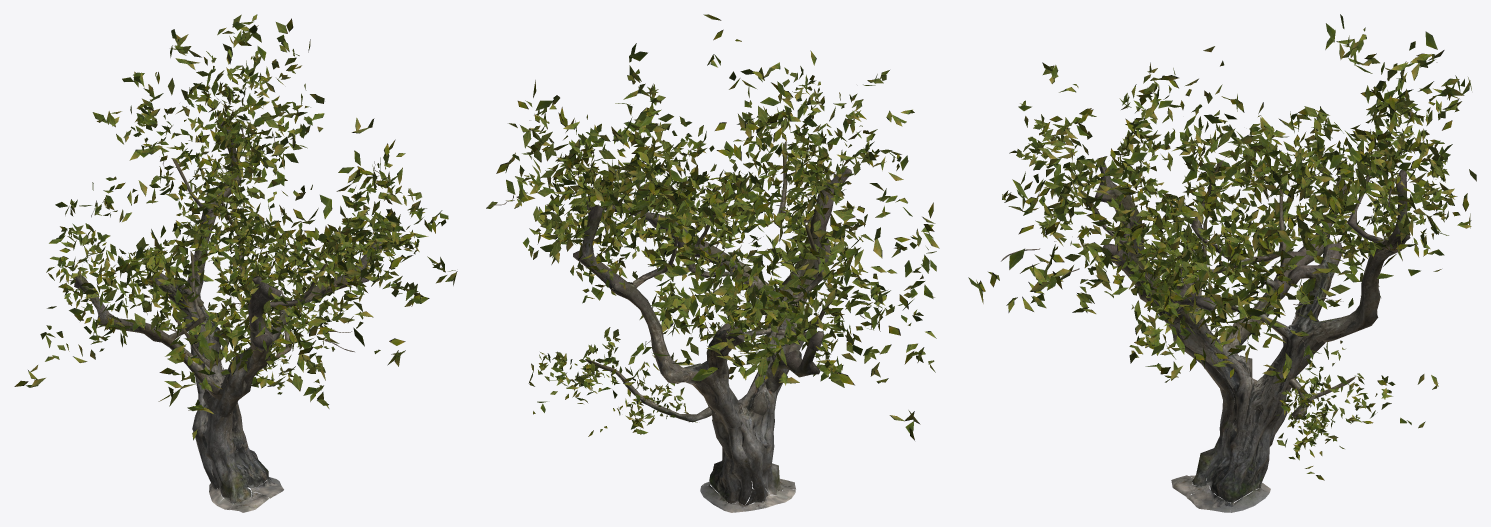
File: island_tree_01.gltf
3 renders of one model, left to right at view 1: azimuth 30°, elevation 25°; view 2: azimuth 150°, elevation 25°; view 3: azimuth 270°, elevation 25°, orthographic. The views are drawn at different scales.
Parts seen in each view (by area): view 1: island_tree_01; view 2: island_tree_01; view 3: island_tree_01.
Part boxes in pixels (<box>): island_tree_01: <box>14,14,457,512</box>; island_tree_01: <box>486,14,939,512</box>; island_tree_01: <box>968,14,1476,512</box>.
Bounding box in the file's own units: 4.64 × 5.02 × 4.6.
1 material, 1 textured.
